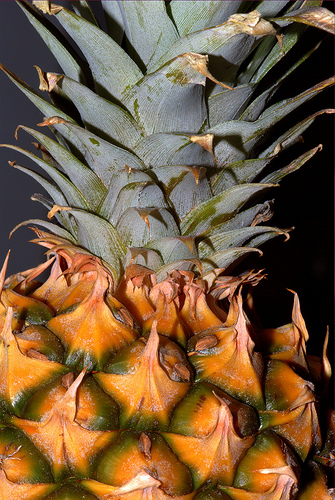pineapple: (0, 0, 333, 498)
